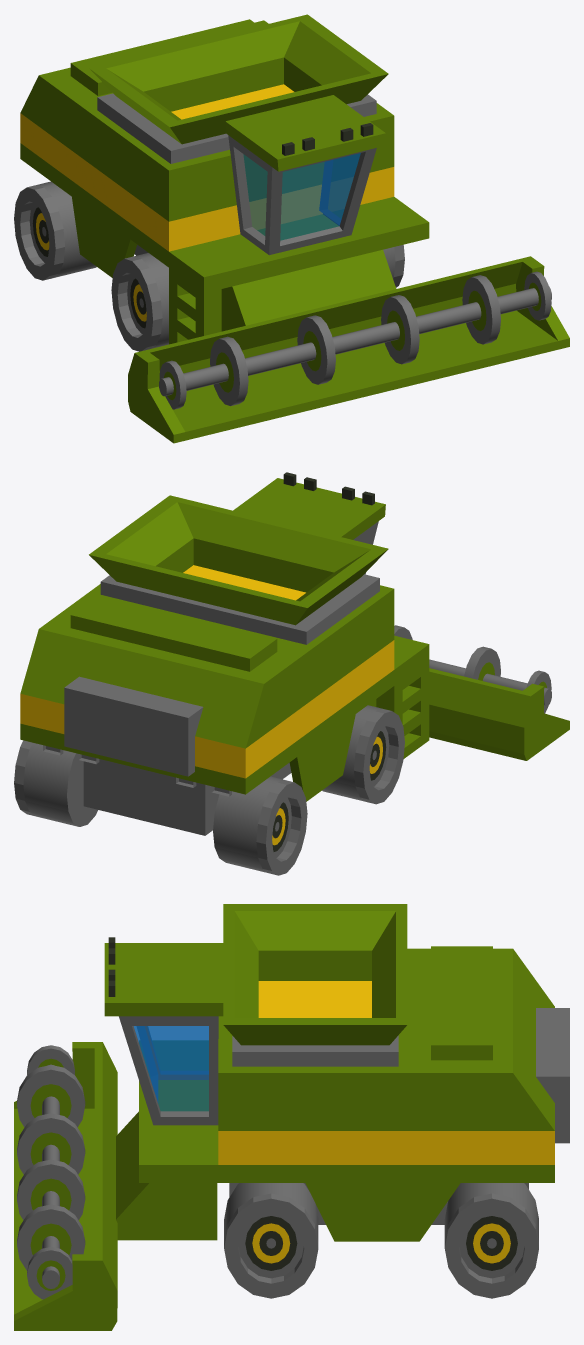
The model's file is kombain.fbx.
3 views of the same model, one above another, from view 1: azimuth 30°, elevation 25°; view 2: azimuth 150°, elevation 25°; view 3: azimuth 270°, elevation 25° (orthographic). The views are drawn at different scales.
Parts seen in each view (by area): view 1: Cylinder006_01 - Default_0; view 2: Cylinder006_01 - Default_0; view 3: Cylinder006_01 - Default_0.
Boxes of the visible parts, x1=… form: Cylinder006_01 - Default_0: x1=14, y1=14, x2=569, y2=443; Cylinder006_01 - Default_0: x1=14, y1=472, x2=569, y2=875; Cylinder006_01 - Default_0: x1=14, y1=904, x2=569, y2=1330.
Size of the model in its own units: 62.34 by 35.45 by 66.91.
